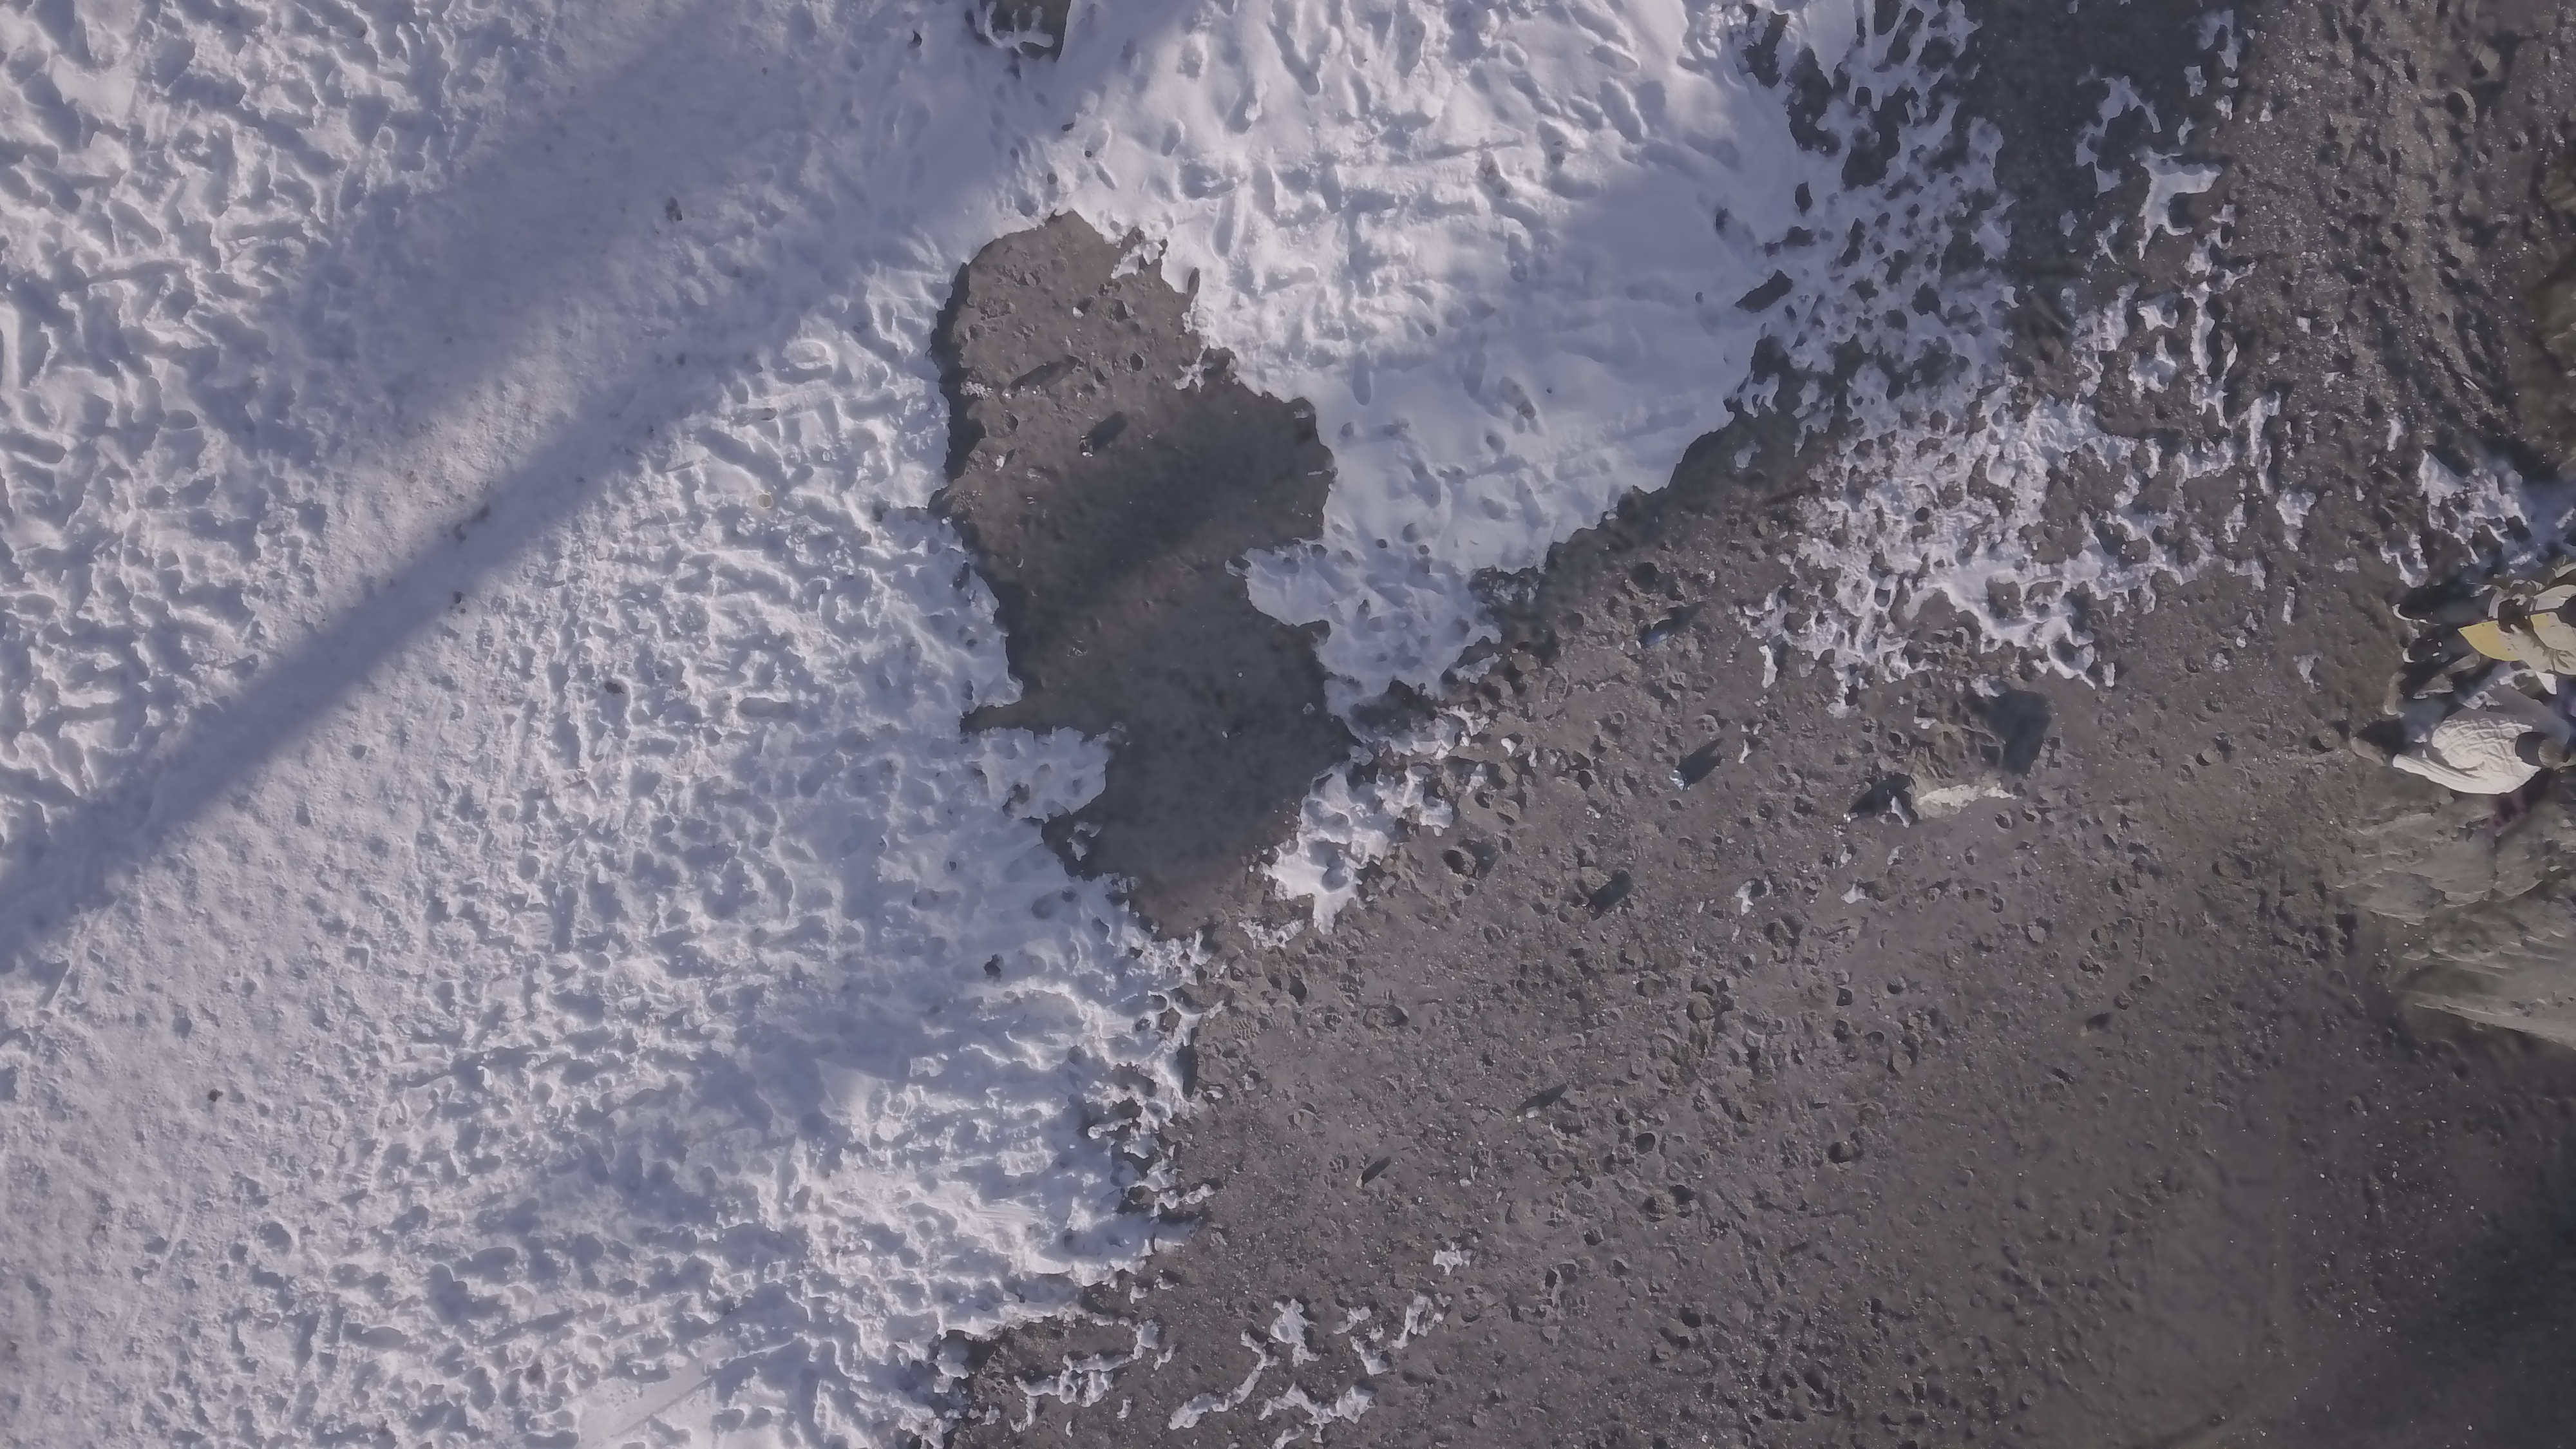Can: (1787, 1178, 1821, 1198), (1668, 768, 1691, 794), (1844, 809, 1879, 824), (1817, 1421, 1840, 1444), (1582, 901, 1605, 922), (1674, 1106, 1693, 1127), (1079, 433, 1095, 456), (1223, 725, 1246, 741)
Other: (757, 494, 777, 510)
PlasticBottle: (1003, 384, 1047, 402), (1511, 1106, 1546, 1123)
